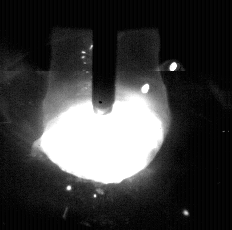arame: (92, 0, 116, 114)
poca: (42, 0, 171, 230)
